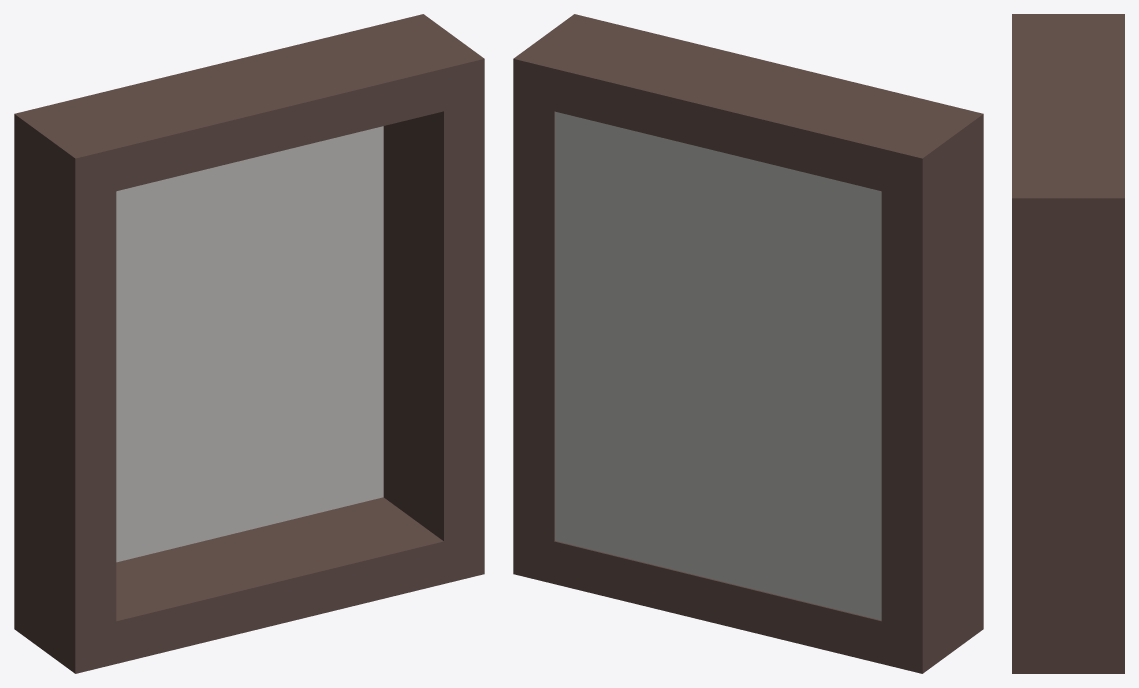
The model's file is SM_Env_Window_08.fbx.
3 renders of one model, left to right at view 1: azimuth 30°, elevation 25°; view 2: azimuth 150°, elevation 25°; view 3: azimuth 270°, elevation 25°, orthographic. The views are drawn at different scales.
Parts seen in each view (by area): view 1: SM_Env_Window_08; view 2: SM_Env_Window_08; view 3: SM_Env_Window_08.
Boxes of the visible parts, x1,y1,x2,y2 form: SM_Env_Window_08: (14, 14, 484, 673); SM_Env_Window_08: (513, 14, 983, 673); SM_Env_Window_08: (1012, 14, 1124, 673).
Bounding box in the file's own units: 82.83 × 99.69 × 21.45.
1 material, 1 textured.
